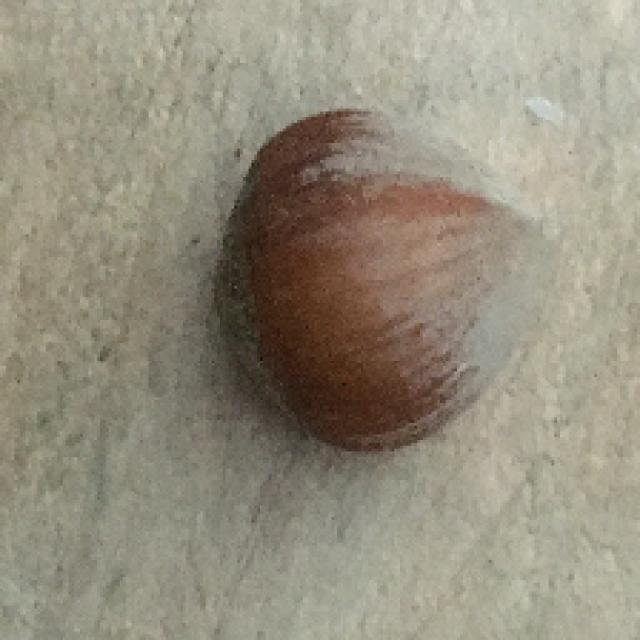qualityHazelnut: (209, 99, 583, 468)
